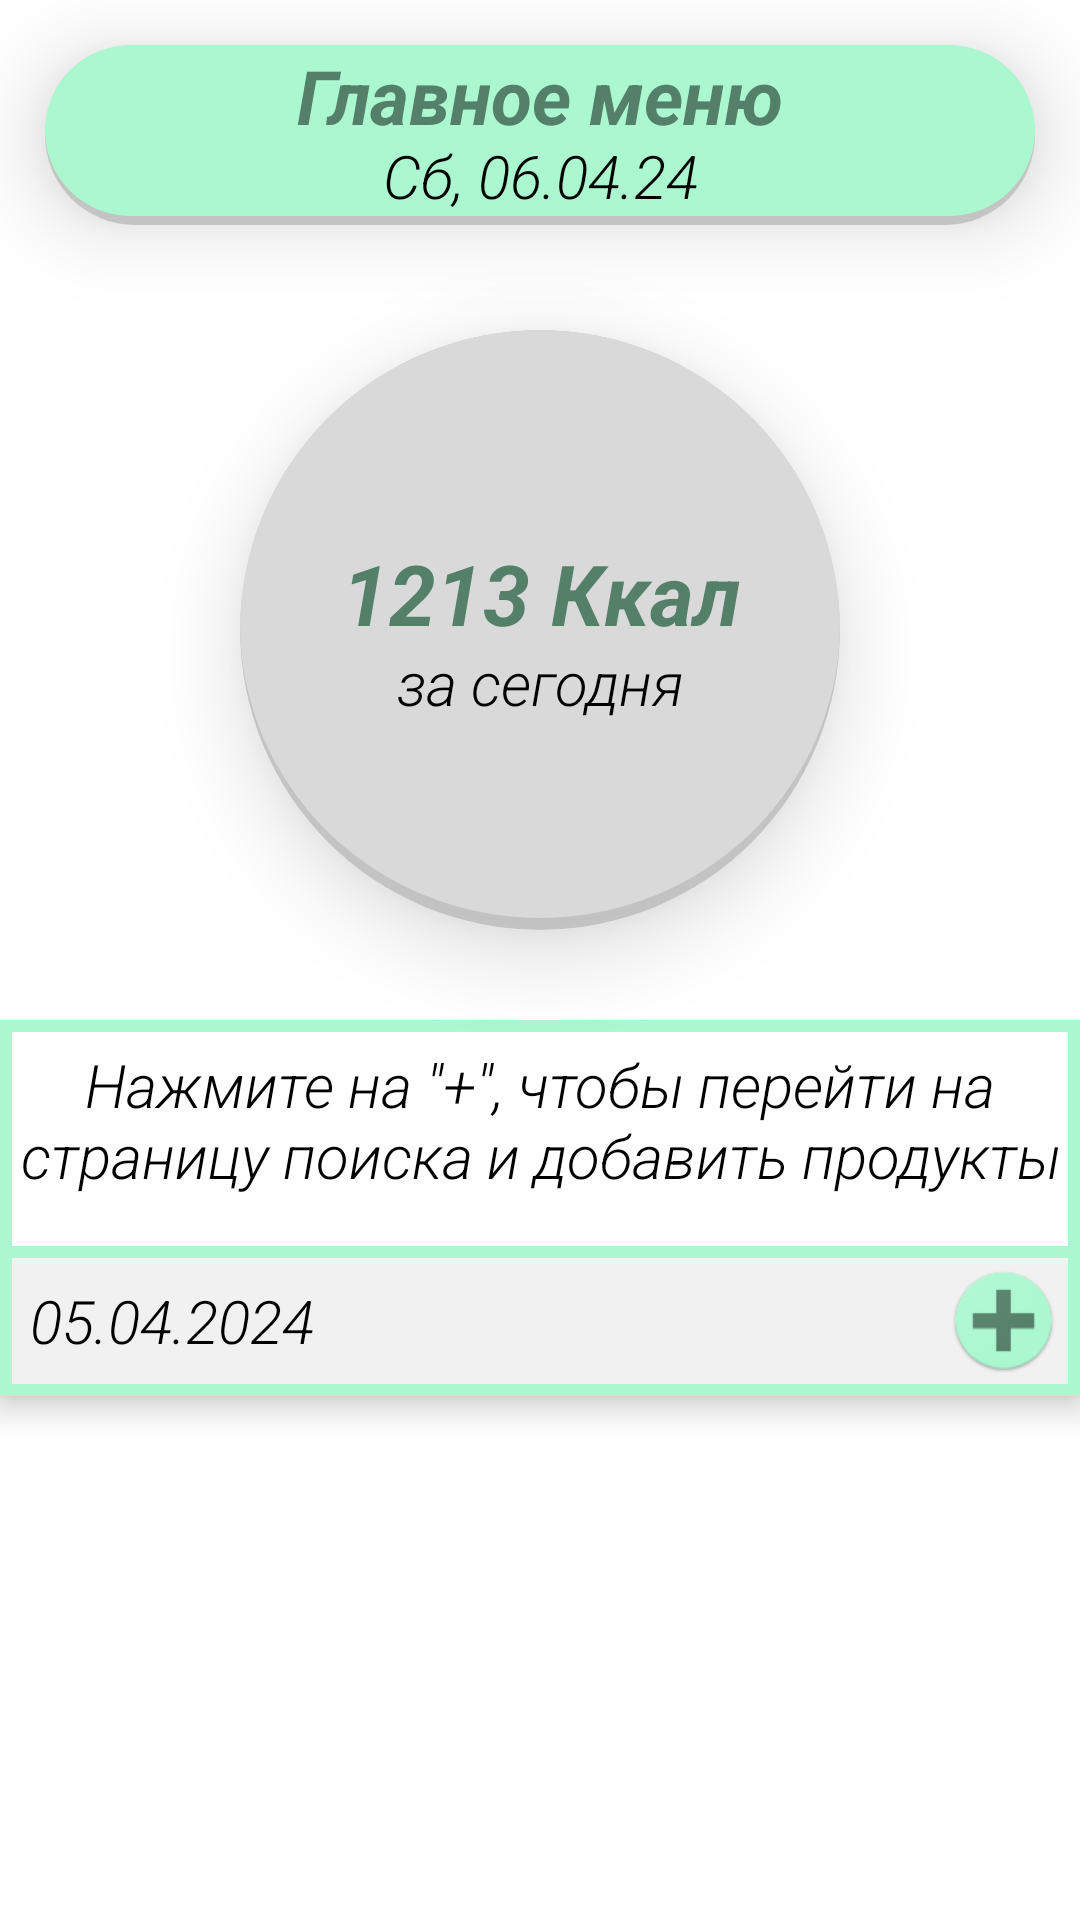

Screen size 1080x1920. Icon name, then its box in pixels as (x1, y1, x2, y2):
add: (955, 1272, 1052, 1371)
